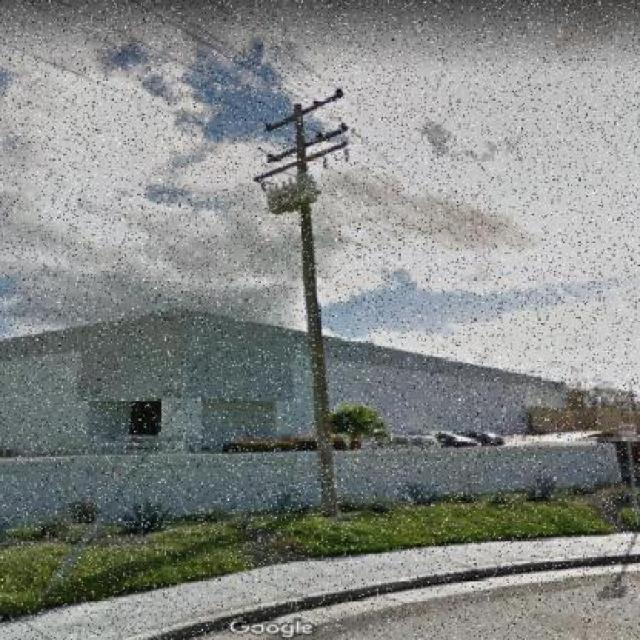pole: (212, 49, 414, 574)
